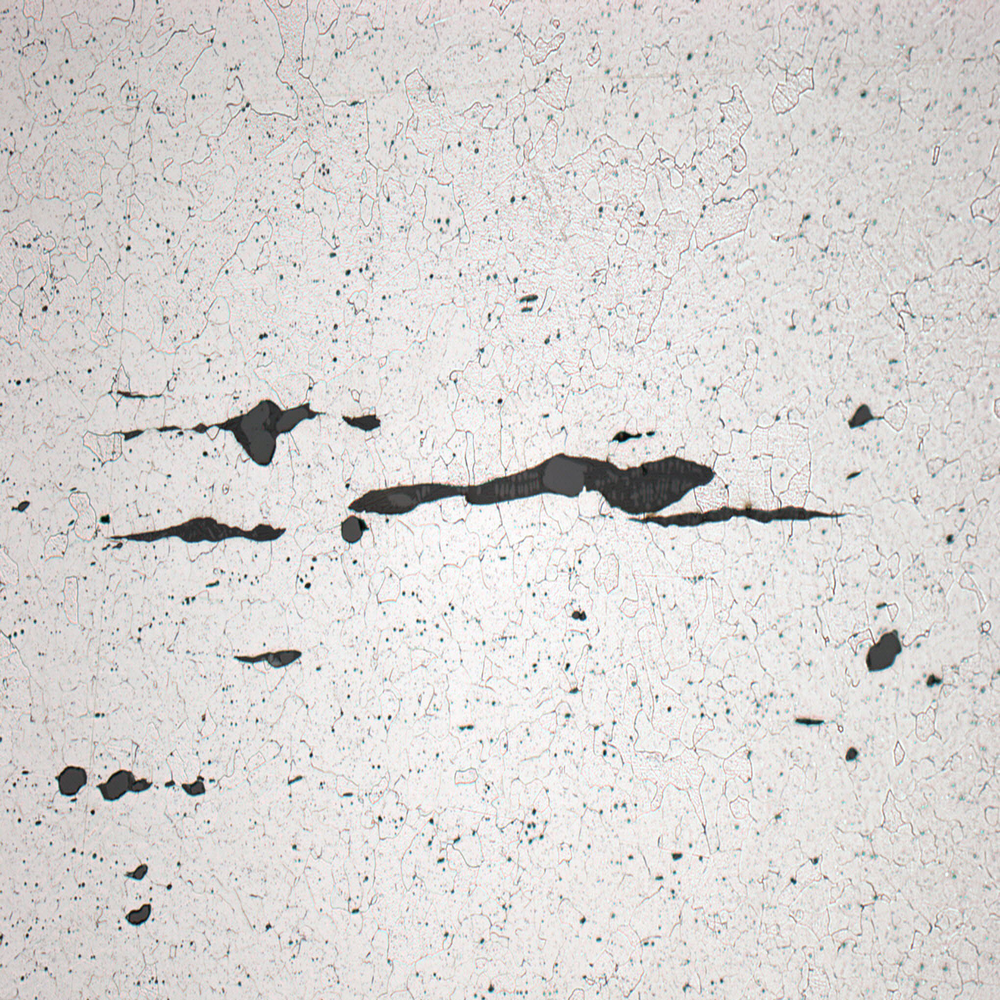crack: (318, 452, 854, 544), (69, 361, 385, 470), (23, 745, 217, 805), (843, 595, 948, 705), (65, 508, 302, 551), (205, 645, 333, 681)
